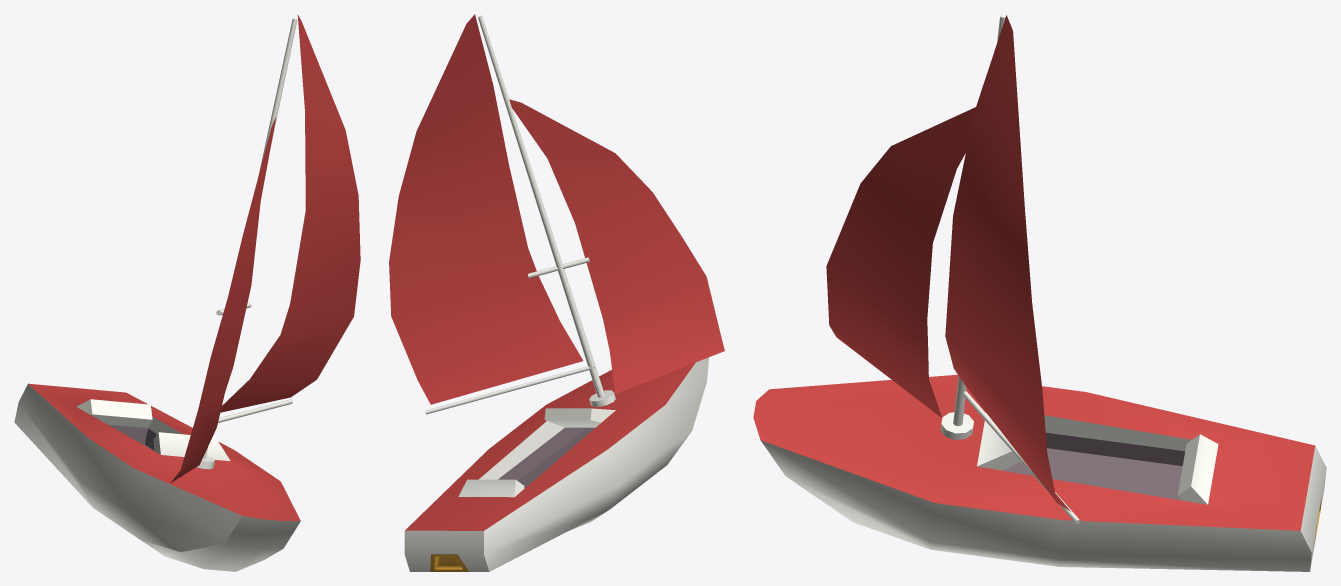
Rendered from untitled_boat_suisseplan.glb.
3 views of the same model, side by side, from view 1: azimuth 30°, elevation 25°; view 2: azimuth 150°, elevation 25°; view 3: azimuth 270°, elevation 25° (orthographic). The views are drawn at different scales.
Visible parts, largest first — view 1: boat; view 2: boat; view 3: boat.
Boxes of the visible parts, <box> form: boat: <box>14,14,360,571</box>; boat: <box>389,14,724,571</box>; boat: <box>753,14,1326,571</box>.
Bounding box in the file's own units: 19.66 × 34.34 × 29.61.
